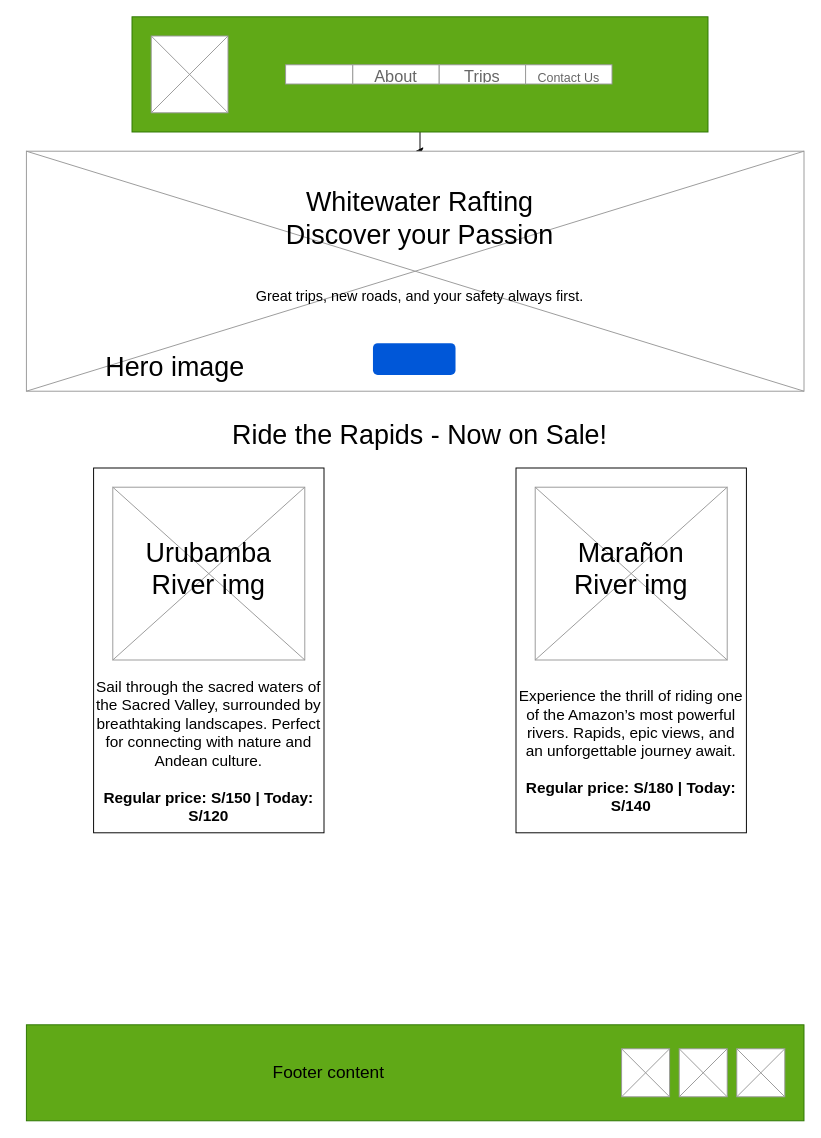
Image size: 821x1138. Some labels were removed from this diagram. The box of each missing label's shape, as (x1, y1, x2, y2) in pixels:
Home: (285, 64, 353, 84)
Plan your trip!: (372, 343, 455, 374)
